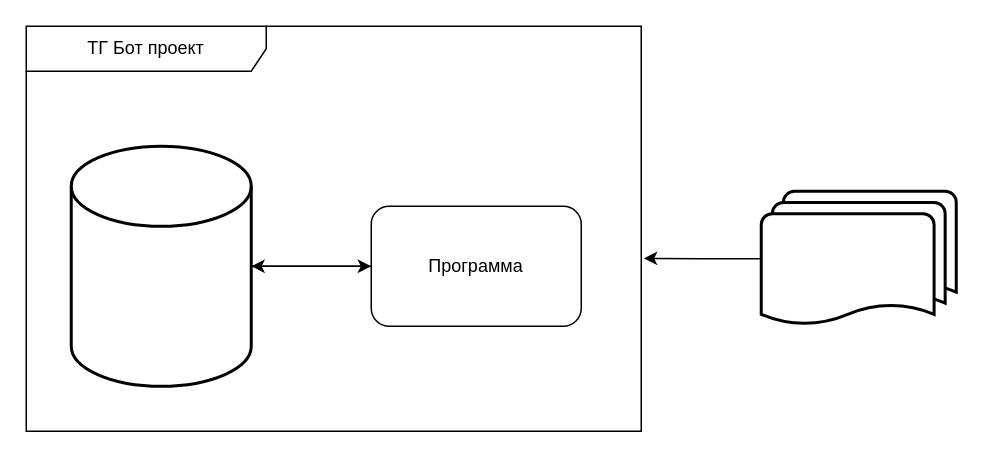
Some shapes in this 984 by 458 pixel diagram are drawn without their labels. The box of each missing label's shape, as (x1, y1, x2, y2) in pixels:
локальная база данных с информацией о группах: (69, 144, 252, 387)
Файлы из облака Yandex Cloud: (759, 189, 957, 327)
